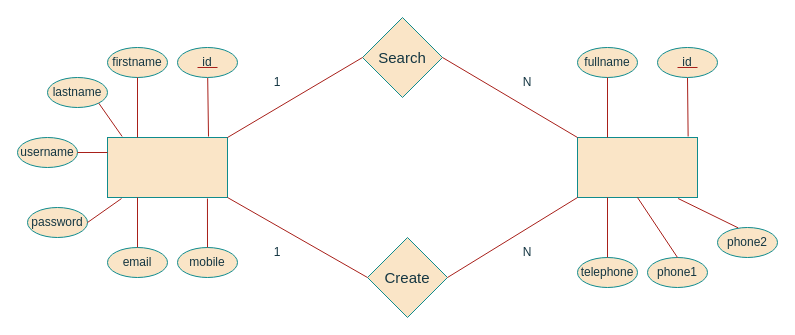
Image size: 795x335. Some labels were removed from this diagram. Each missing label, with the centre of its shape:
"Managers" belongs at pixel 167 167.
"User(Phones)" belongs at pixel 637 167.
